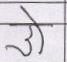e_matra: (20, 6, 39, 22)
